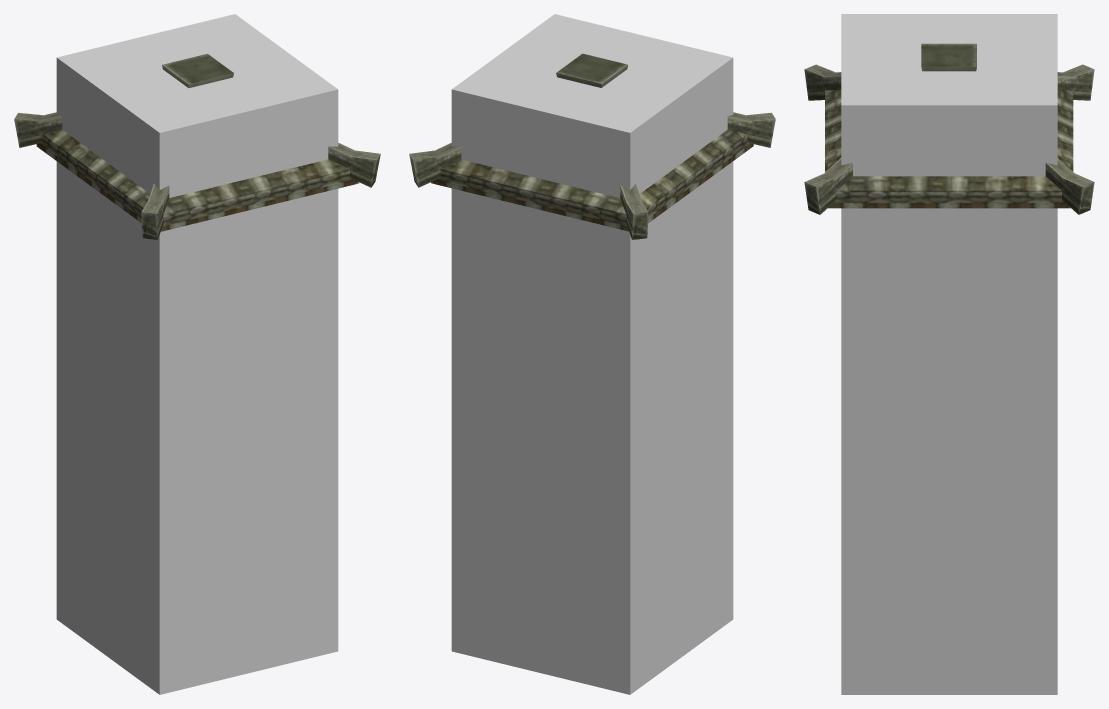
File: YHJ_shideng.FBX
The picture shows the model from 3 angles, left to right: view 1: azimuth 30°, elevation 25°; view 2: azimuth 150°, elevation 25°; view 3: azimuth 270°, elevation 25°; orthographic projection. The views are drawn at different scales.
Parts seen in each view (by area): view 1: YHJ_shideng-col, YHJ_shideng; view 2: YHJ_shideng-col, YHJ_shideng; view 3: YHJ_shideng-col, YHJ_shideng.
Boxes of the visible parts, x1=… form: YHJ_shideng-col: x1=56, y1=14, x2=338, y2=694; YHJ_shideng: x1=14, y1=54, x2=380, y2=239; YHJ_shideng-col: x1=451, y1=14, x2=733, y2=694; YHJ_shideng: x1=409, y1=53, x2=775, y2=239; YHJ_shideng-col: x1=841, y1=14, x2=1057, y2=694; YHJ_shideng: x1=804, y1=43, x2=1094, y2=214.
Bounding box in the file's own units: 1.22 × 2.77 × 1.22.
